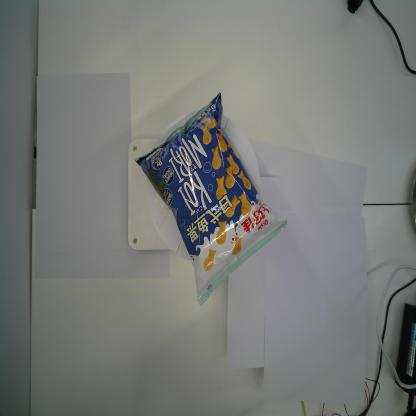Puffed Food: (134, 92, 288, 306)
